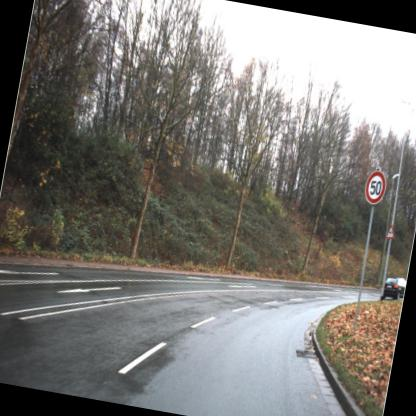danger: (384, 221, 396, 243)
prohibitory: (361, 167, 389, 208)
